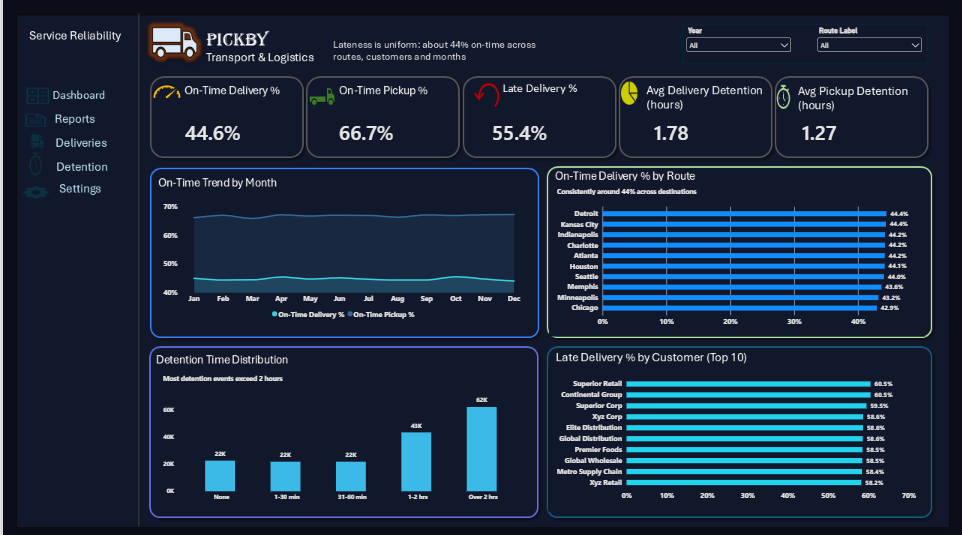

Layout of this report page (visuals, bound fields, positions):
{"tool":"powerbi","page":{"name":"Service Reliability","canvas":[1920,1080],"ordinal":1},"visuals":[{"type":"lineChart","fields":{"Category":["Date.Month"],"Y":["Measure.On-Time Delivery %","Measure.On-Time Pickup %"]},"box":[304.6,392.6,757.3,270.3],"z":0},{"type":"clusteredBarChart","fields":{"Y":["Measure.On-Time Delivery %"],"Category":["routes.destination_city"]},"box":[1091.9,366.8,750.8,311.1],"z":1000},{"type":"clusteredColumnChart","fields":{"Category":["delivery_events.Dentention Bucket"],"Y":["CountNonNull(delivery_events.Event_ID)"]},"box":[304.6,738,757.3,289.6],"z":2000},{"type":"clusteredBarChart","fields":{"Category":["customers.Customer_Name"],"Y":["Measure.Late Delivery"]},"box":[1090.7,736.8,752.7,290.5],"z":3000},{"type":"cardVisual","fields":{"Data":["Measure.On-Time Delivery %"]},"box":[347.5,227.4,195.2,79.4],"z":4000},{"type":"cardVisual","fields":{"Data":["Measure.On-Time Pickup %"]},"box":[656.4,227.4,229.5,79.4],"z":5000},{"type":"cardVisual","fields":{"Data":["Measure.Late Delivery"]},"box":[961.1,227.4,203.8,79.4],"z":6000},{"type":"cardVisual","fields":{"Data":["Measure.Average Delivery Detention Hours"]},"box":[1285,227.4,186.6,77.2],"z":7000},{"type":"cardVisual","fields":{"Data":["Measure.Average Pickup Detention Hours"]},"box":[1581.1,227.4,203.8,79.4],"z":8000},{"type":"slicer","fields":{"Values":["Date.YEAR"]},"box":[1362.2,55.8,218.8,72.9],"z":9000},{"type":"slicer","fields":{"Values":["routes.Route Label"]},"box":[1624,55.8,218.8,72.9],"z":10000},{"type":"textbox","box":[40.5,17.5,219,150],"z":11000}]}

Visuals, with their boxes on the page's 1920x1080 design canvas (x1, y1, x2, y2). These are canvas units, not pixel positions in the 962x535 screenshot, which may show the page scaled, cropped or inside an application window:
lineChart - Date.Month x Measure.On-Time Delivery %: box(305, 393, 1062, 663)
clusteredBarChart - Measure.On-Time Delivery % x routes.destination_city: box(1092, 367, 1843, 678)
clusteredColumnChart - delivery_events.Dentention Bucket x CountNonNull(delivery_events.Event_ID): box(305, 738, 1062, 1028)
clusteredBarChart - customers.Customer_Name x Measure.Late Delivery: box(1091, 737, 1843, 1027)
cardVisual - Measure.On-Time Delivery %: box(348, 227, 543, 307)
cardVisual - Measure.On-Time Pickup %: box(656, 227, 886, 307)
cardVisual - Measure.Late Delivery: box(961, 227, 1165, 307)
cardVisual - Measure.Average Delivery Detention Hours: box(1285, 227, 1472, 305)
cardVisual - Measure.Average Pickup Detention Hours: box(1581, 227, 1785, 307)
slicer - Date.YEAR: box(1362, 56, 1581, 129)
slicer - routes.Route Label: box(1624, 56, 1843, 129)
textbox: box(40, 18, 260, 168)
